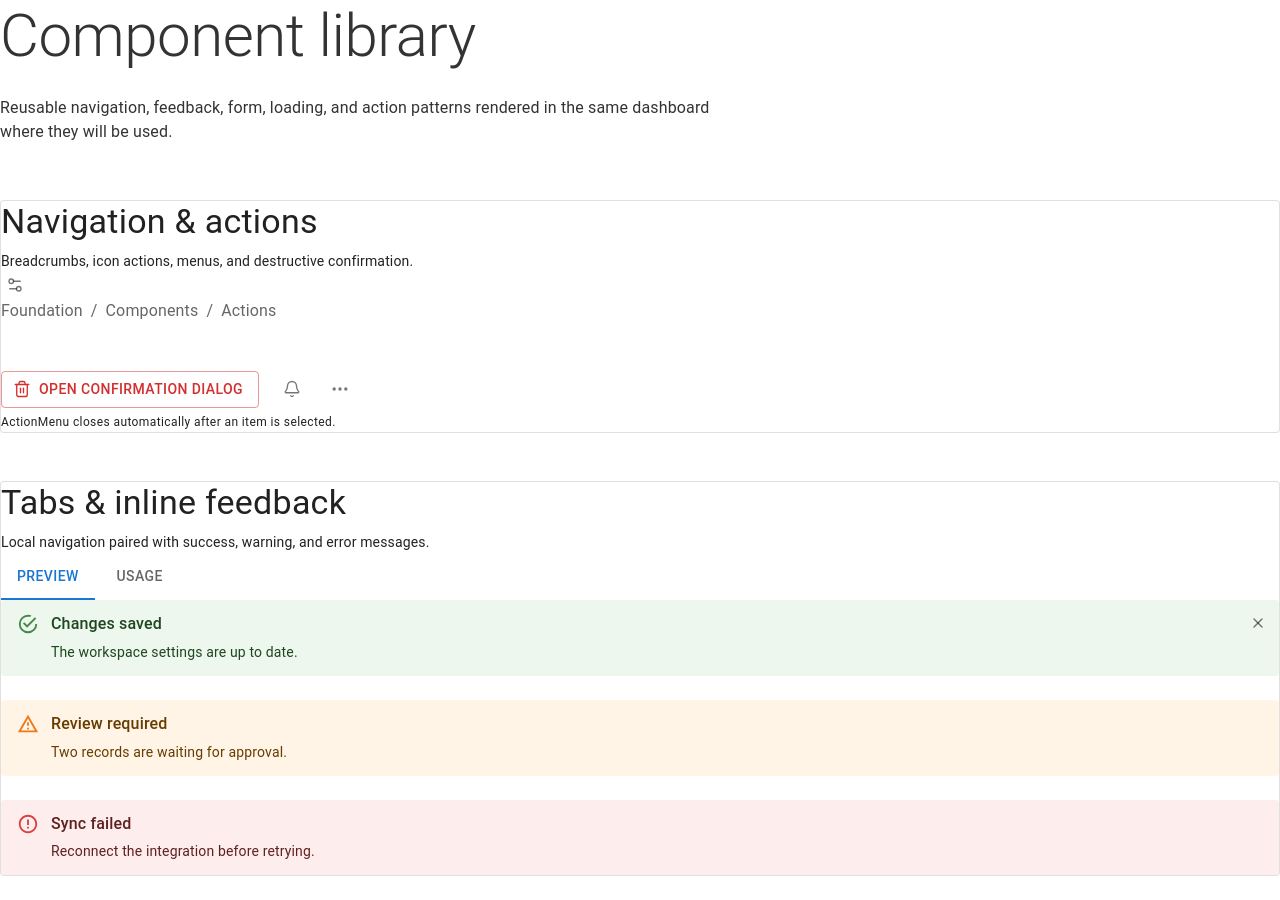
ComponentShowcase › renders the component catalog and opens the confirmation dialog
Check: the heading "Component library" is shown, box [0, 0, 476, 71]
Check: the navigation bar named "Component example breadcrumbs" is shown, box [1, 301, 276, 320]
What coordinates should you click on to do the following:
click the button "Open confirmation dialog"
I would click on:
 (130, 389)
Its box is [1, 371, 259, 408].
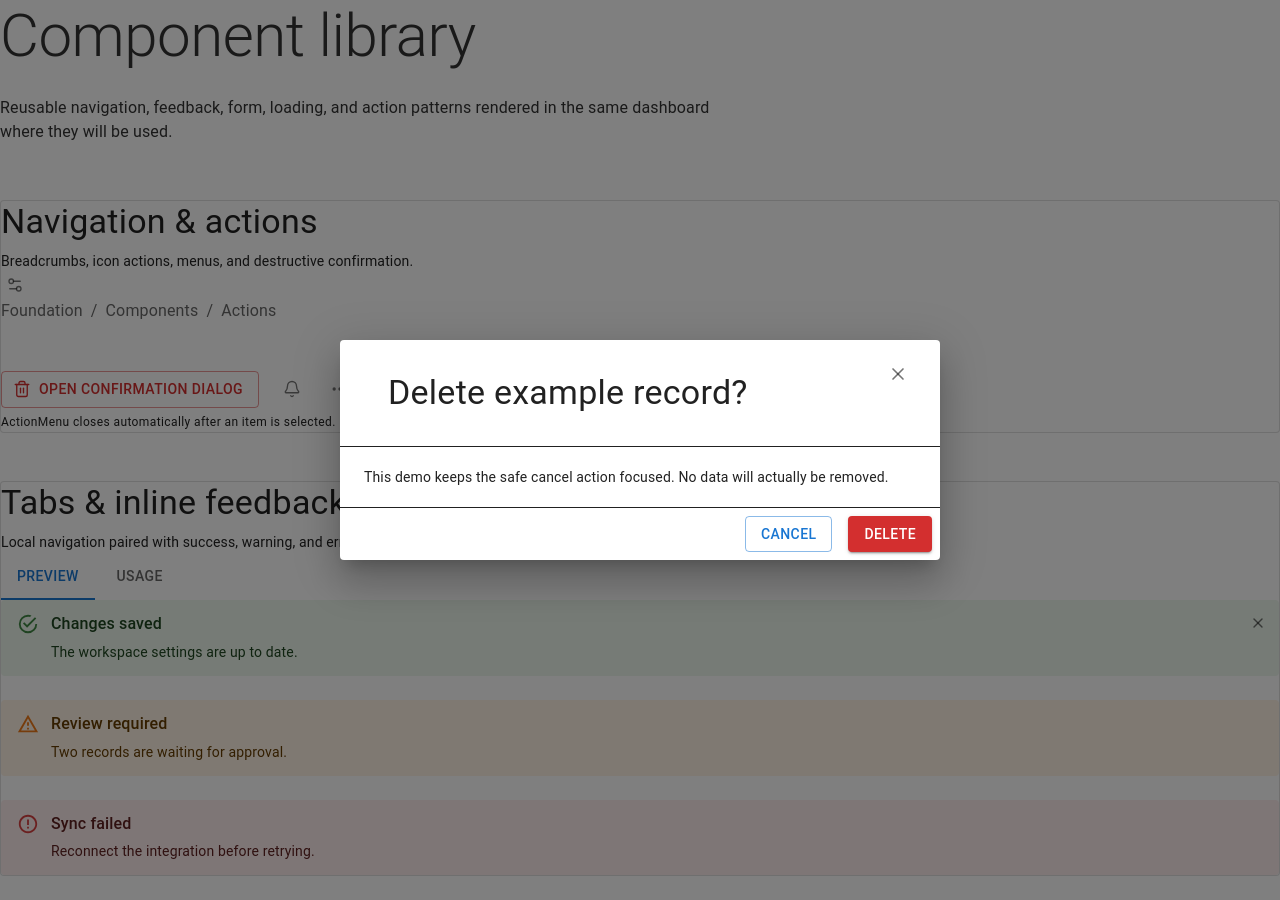
Check: the dialog "Delete example record?" is shown, box [340, 340, 940, 560]
